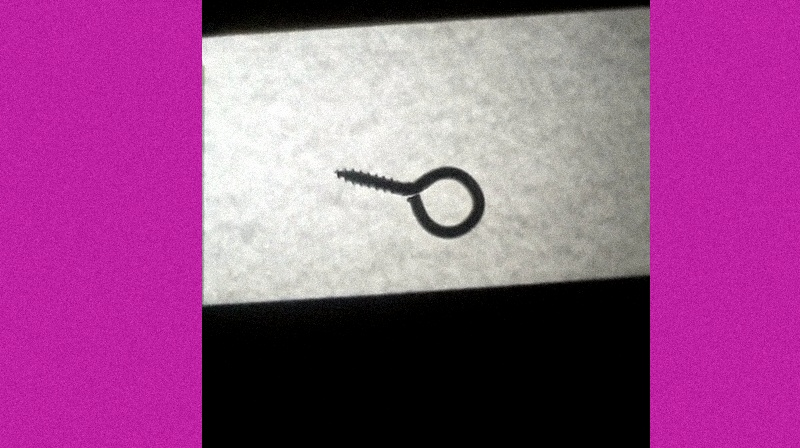O001: (330, 161, 485, 243)
